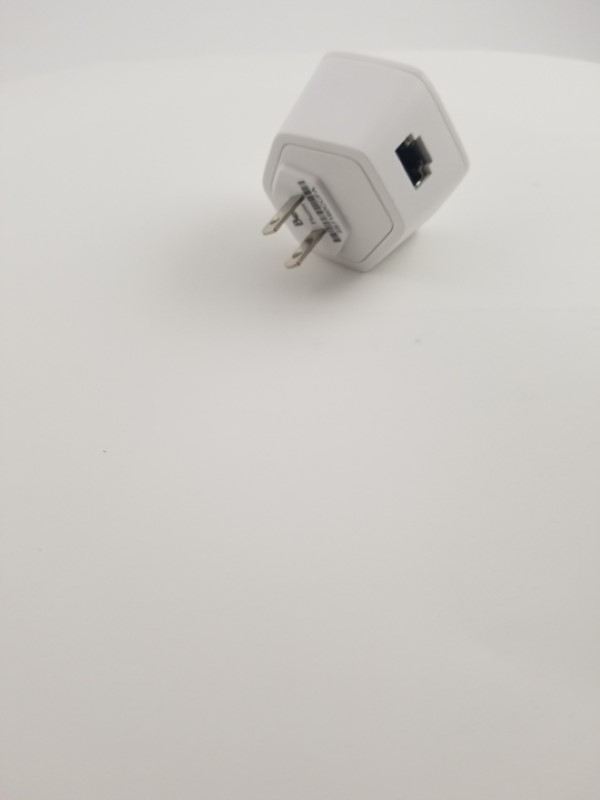pod: (247, 42, 486, 303)
